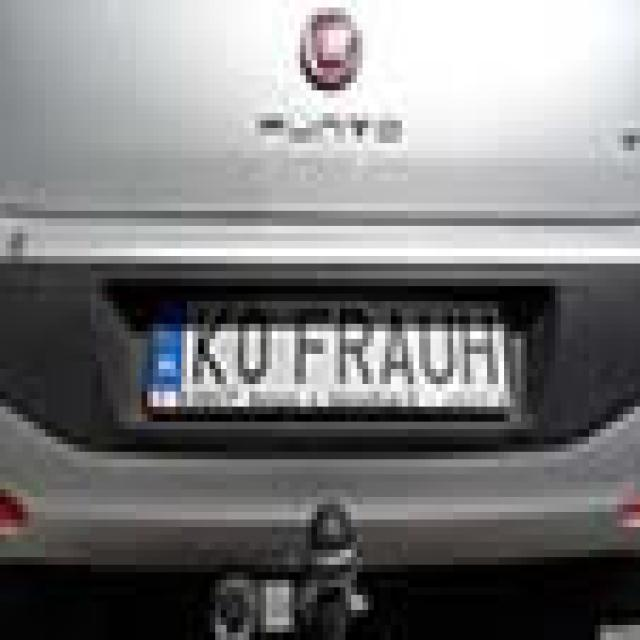pl_license_plate: (147, 294, 504, 392)
